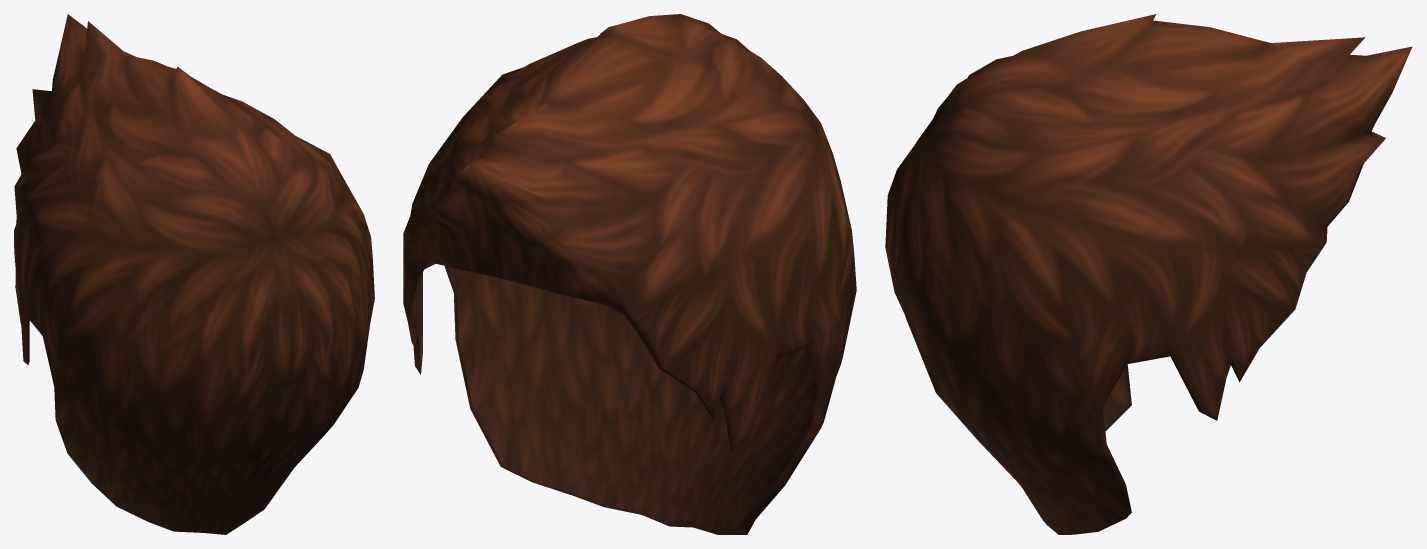
File: Hair_Male_005_textured_brown.glb
The picture shows the model from 3 angles, left to right: view 1: azimuth 30°, elevation 25°; view 2: azimuth 150°, elevation 25°; view 3: azimuth 270°, elevation 25°; orthographic projection. The views are drawn at different scales.
Visible parts, largest first — view 1: Hair_Male_005; view 2: Hair_Male_005; view 3: Hair_Male_005.
Boxes of the visible parts, x1,y1,x2,y2 form: Hair_Male_005: (14, 14, 374, 534); Hair_Male_005: (403, 14, 856, 534); Hair_Male_005: (885, 14, 1412, 534).
Bounding box in the file's own units: 0.1845 × 0.2501 × 0.2361.
Materials: 1 (1 with a texture image).
